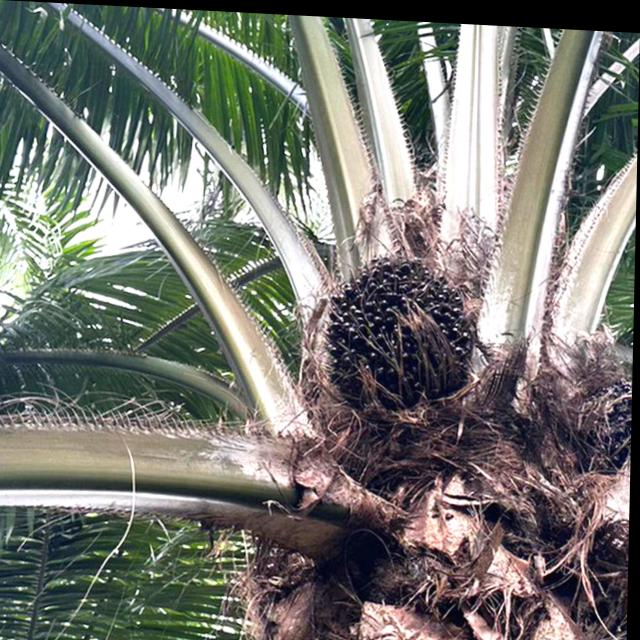unripe: (309, 233, 485, 438)
